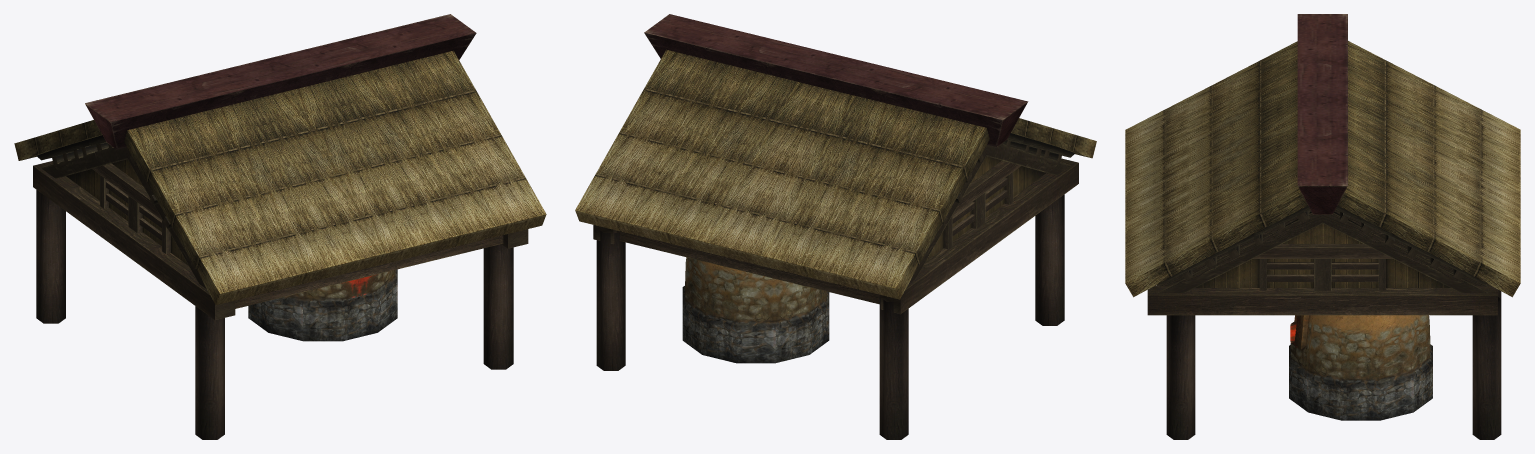
File: fortms_build_smithy.fbx
3 renders of one model, left to right at view 1: azimuth 30°, elevation 25°; view 2: azimuth 150°, elevation 25°; view 3: azimuth 270°, elevation 25°, orthographic. The views are drawn at different scales.
Visible parts, largest first — view 1: fortms_build_smithy, fortms_build_smithy00; view 2: fortms_build_smithy, fortms_build_smithy00; view 3: fortms_build_smithy, fortms_build_smithy00.
Boxes of the visible parts, bbox=[...] form: fortms_build_smithy: bbox=[14, 14, 546, 439]; fortms_build_smithy00: bbox=[248, 269, 397, 341]; fortms_build_smithy: bbox=[575, 14, 1096, 439]; fortms_build_smithy00: bbox=[682, 257, 829, 363]; fortms_build_smithy: bbox=[1125, 14, 1520, 439]; fortms_build_smithy00: bbox=[1289, 315, 1432, 420].
Bounding box in the file's own units: 9.45 × 6.84 × 9.19.
